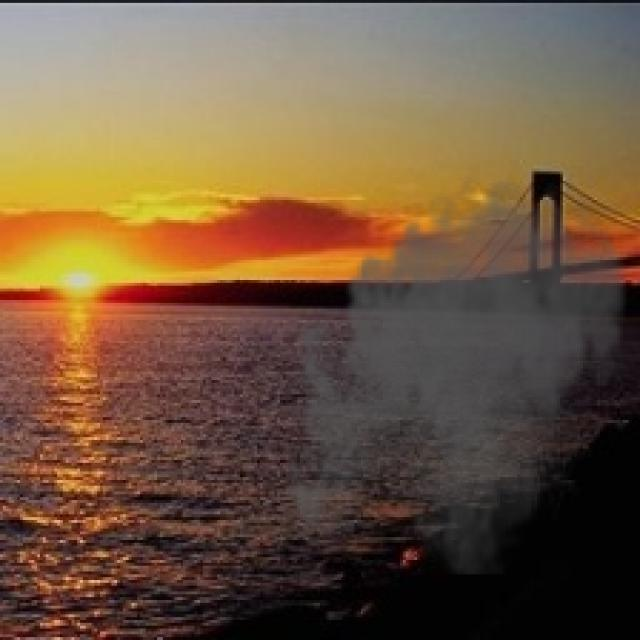smoke: (274, 160, 634, 574)
